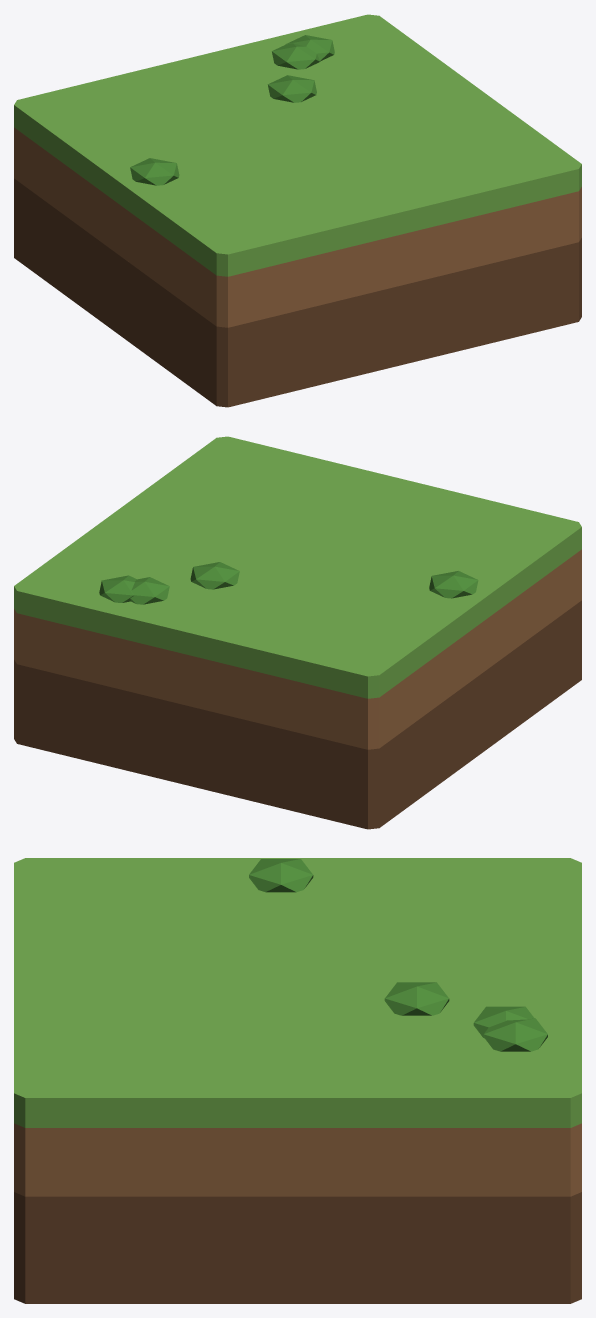
Rendered from ground_grass.glb.
The picture shows the model from 3 angles, top to bottom: view 1: azimuth 30°, elevation 25°; view 2: azimuth 150°, elevation 25°; view 3: azimuth 270°, elevation 25°; orthographic projection. The views are drawn at different scales.
Visible parts, largest first — view 1: ground_grass; view 2: ground_grass; view 3: ground_grass.
Boxes of the visible parts, left/top/right/bottom form: ground_grass: left=14, top=14, right=581, bottom=407; ground_grass: left=14, top=436, right=581, bottom=829; ground_grass: left=14, top=858, right=581, bottom=1303.
Size of the model in its own units: 6 by 2.6 by 6.
